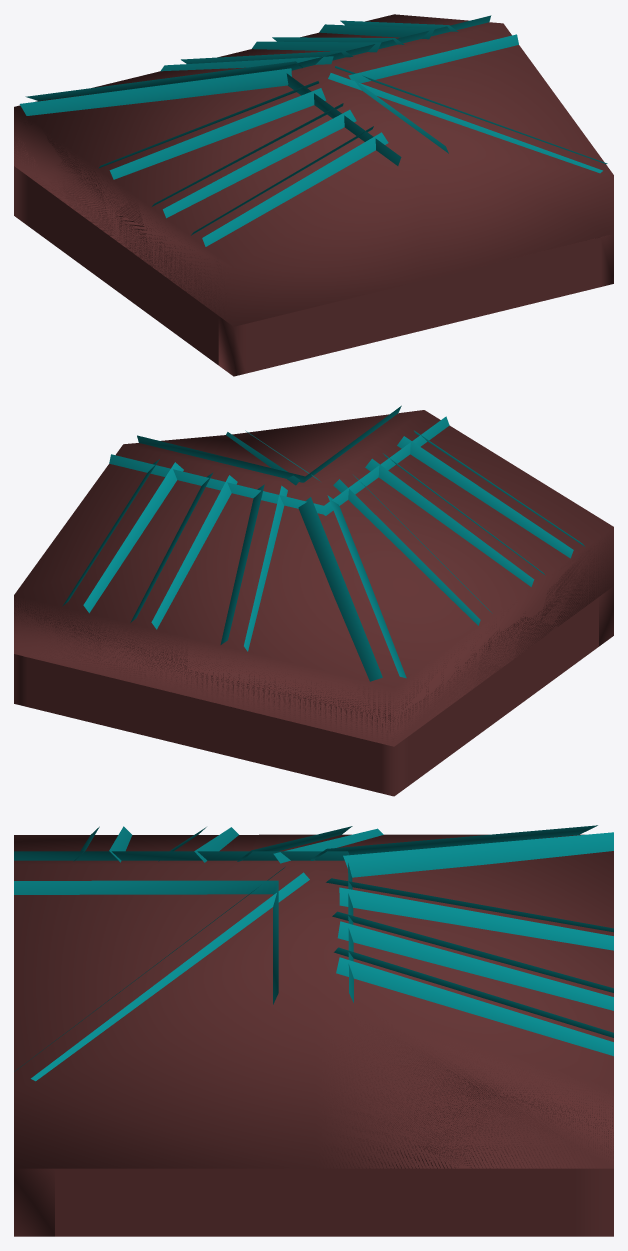
The model's file is corridorceiling_004.fbx.
3 renders of one model, top to bottom at view 1: azimuth 30°, elevation 25°; view 2: azimuth 150°, elevation 25°; view 3: azimuth 270°, elevation 25°, orthographic. The views are drawn at different scales.
Parts seen in each view (by area): view 1: corridorceiling_004; view 2: corridorceiling_004; view 3: corridorceiling_004.
Part boxes in pixels (x1=…): corridorceiling_004: x1=14, y1=14, x2=613, y2=376; corridorceiling_004: x1=14, y1=405, x2=613, y2=796; corridorceiling_004: x1=14, y1=825, x2=613, y2=1236.
Bounding box in the file's own units: 400 × 183 × 400.
